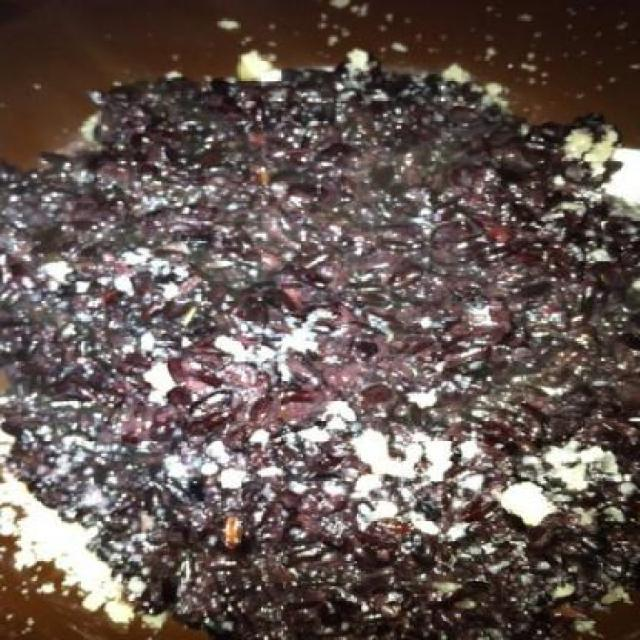Risotto: (11, 70, 616, 628)
